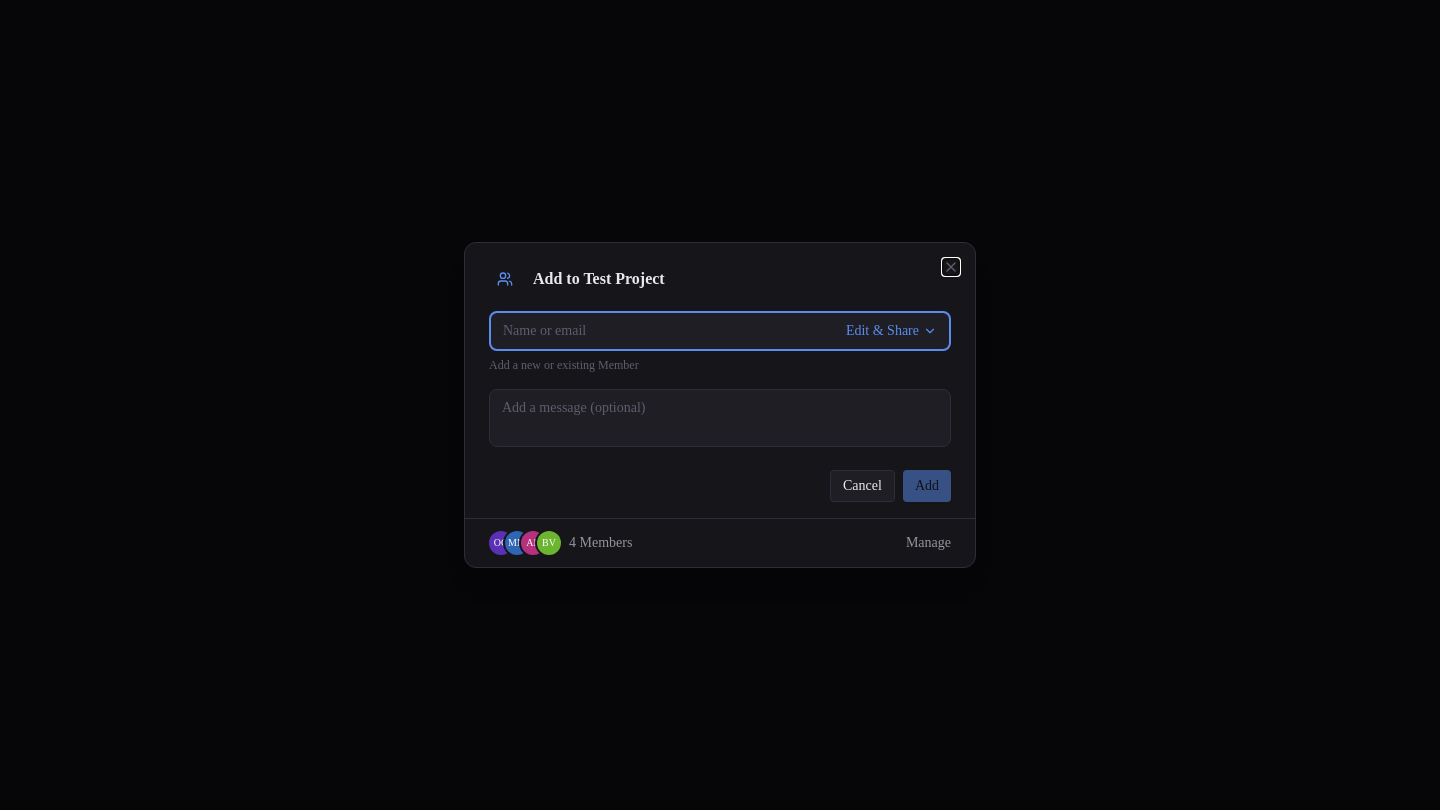
Test: bulk actions › reports WHICH member failed and the API message, not just a count
The width and height of the screenshot is (1440, 810).
Expected: the field with placeholder "Name or email" is shown, [503,321,838,341]
What coordinates should you click on to do the following:
click the button "Manage"
I would click on:
 (928, 543)
Its box is [906,533,951,553].
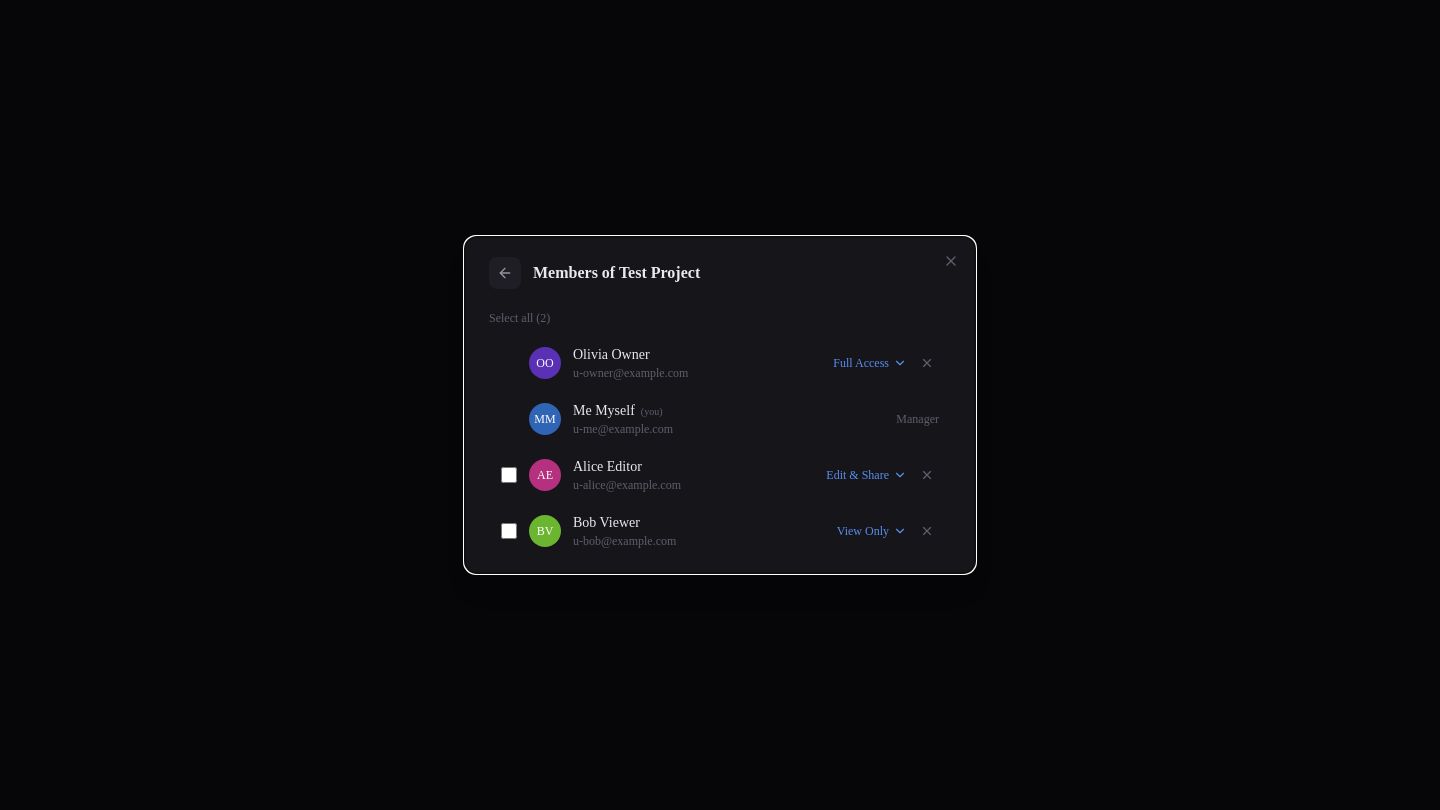
What coordinates should you click on to do the following:
click the checkbox named "Select Alice Editor"
I would click on:
 (509, 475)
Its box is [501,467,517,483].
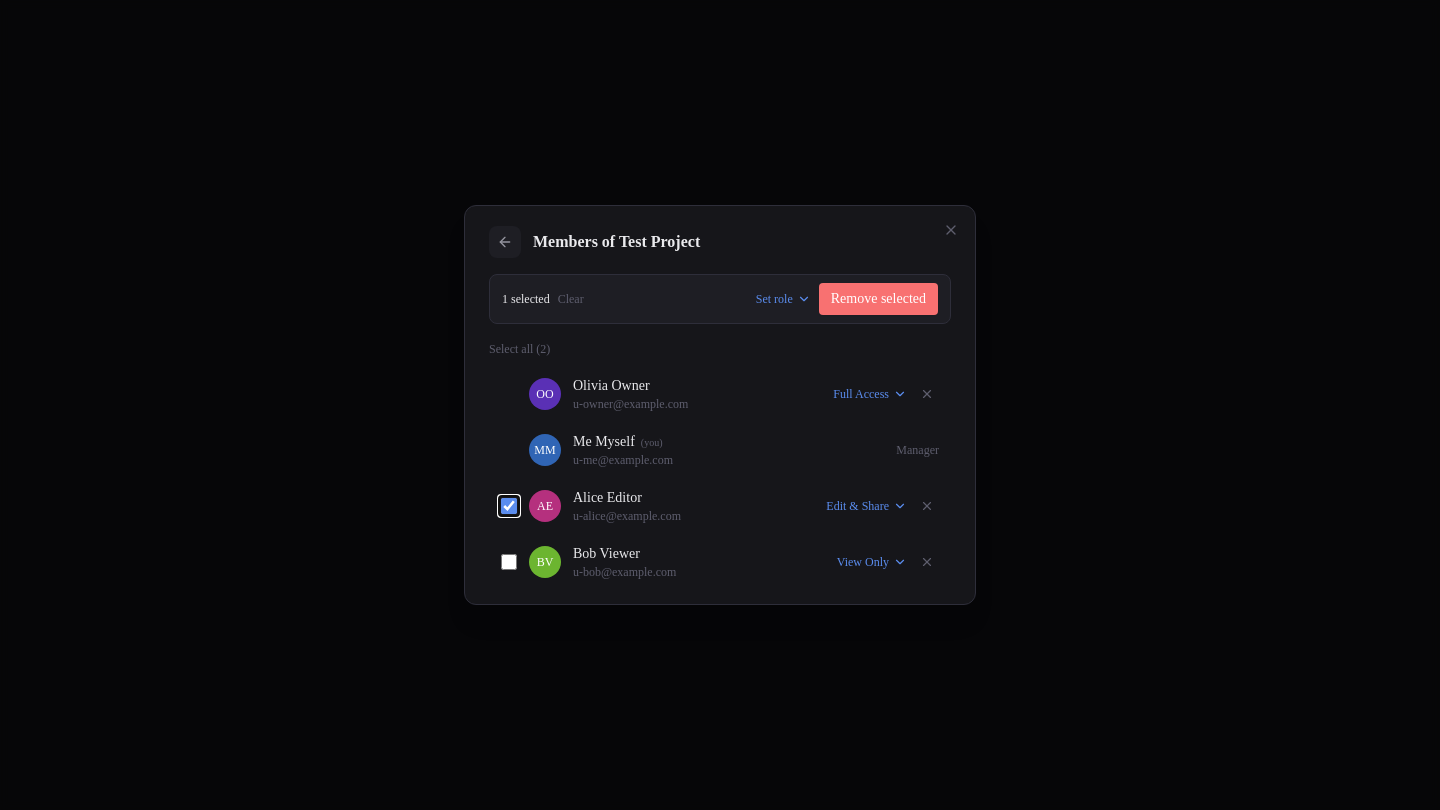
What coordinates should you click on to do the following:
click the checkbox named "Select Bob Viewer"
I would click on:
 (509, 562)
Its box is [501,554,517,570].
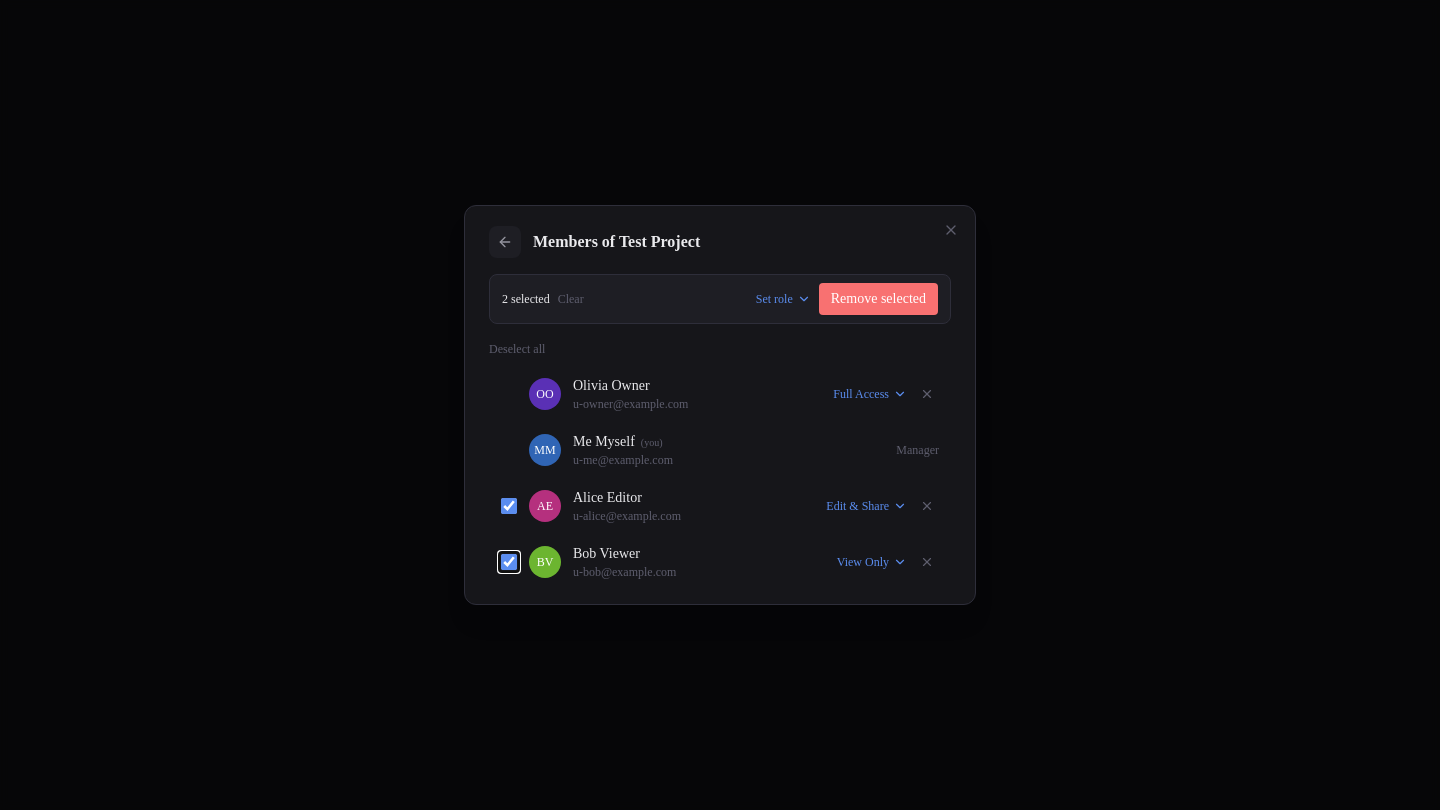
Expected: the text "2 selected" is shown, [502,291,550,307]
What coordinates should you click on to do the following:
click the button "Remove selected"
I would click on:
 (878, 299)
Its box is [819,283,938,315].
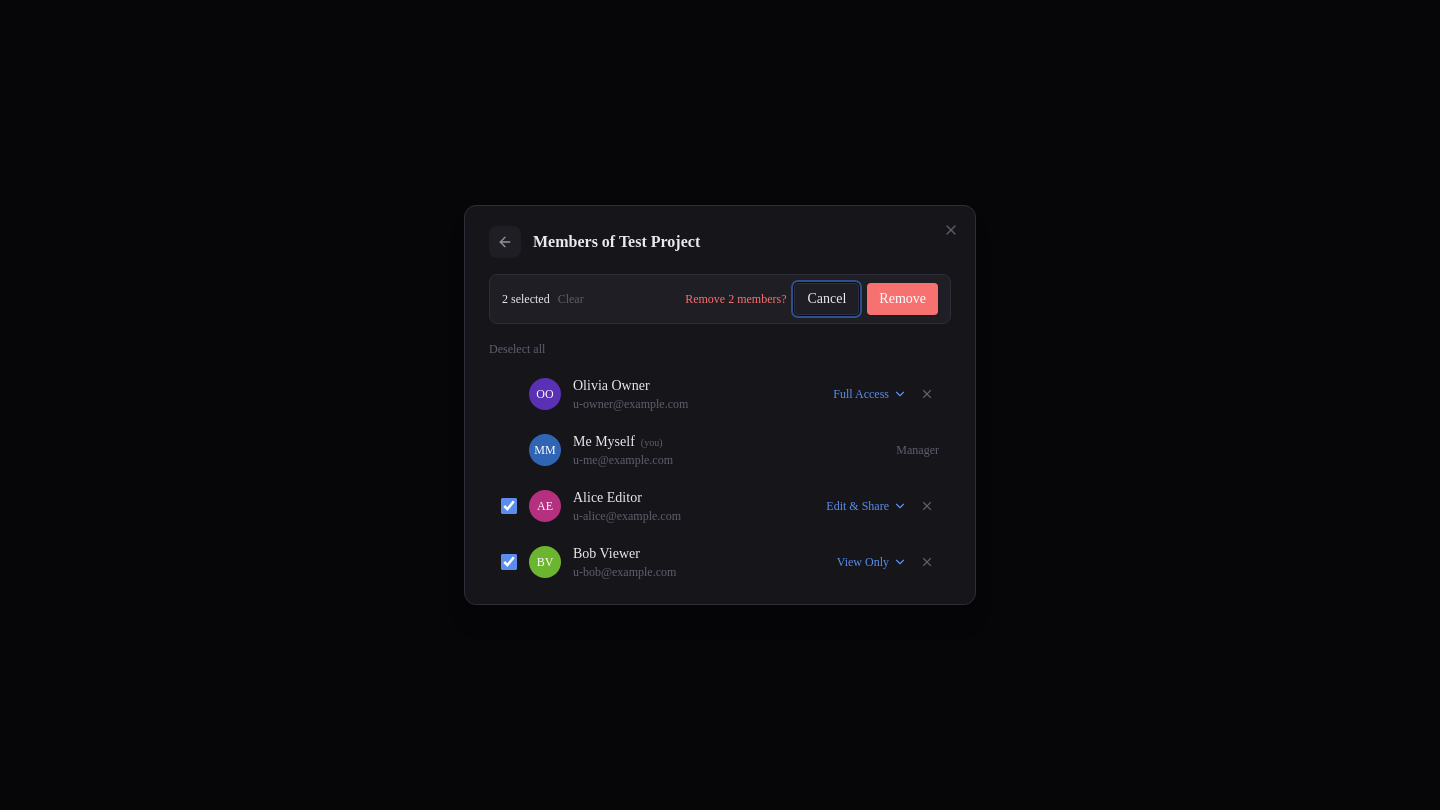
What coordinates should you click on to do the following:
click the button "Remove"
I would click on:
 (903, 299)
Its box is [867,283,938,315].
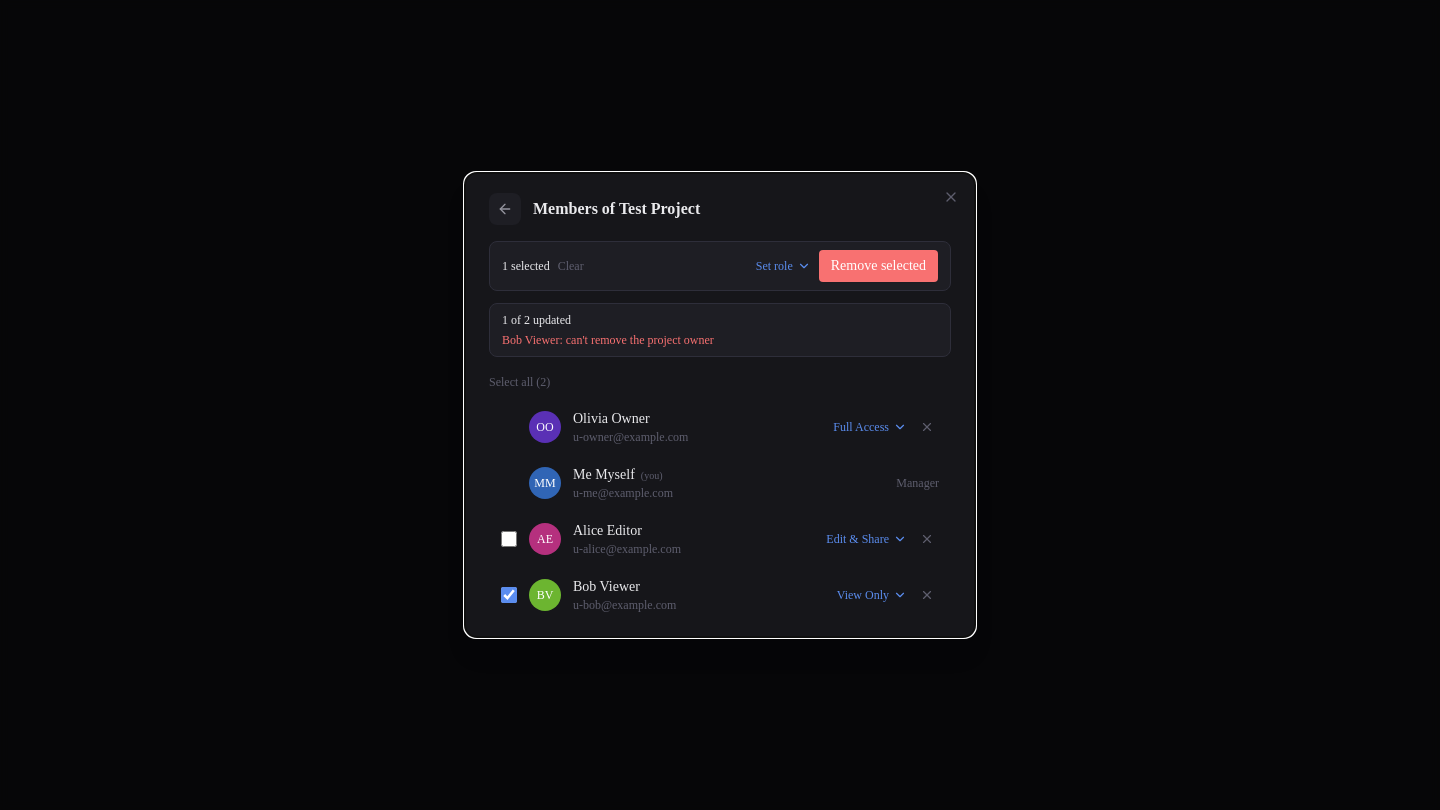
Expected: the text "1 of 2 updated" is shown, [502,313,571,327]
Expected: the text "Bob Viewer: can't remove the project owner" is shown, [502,333,714,347]
